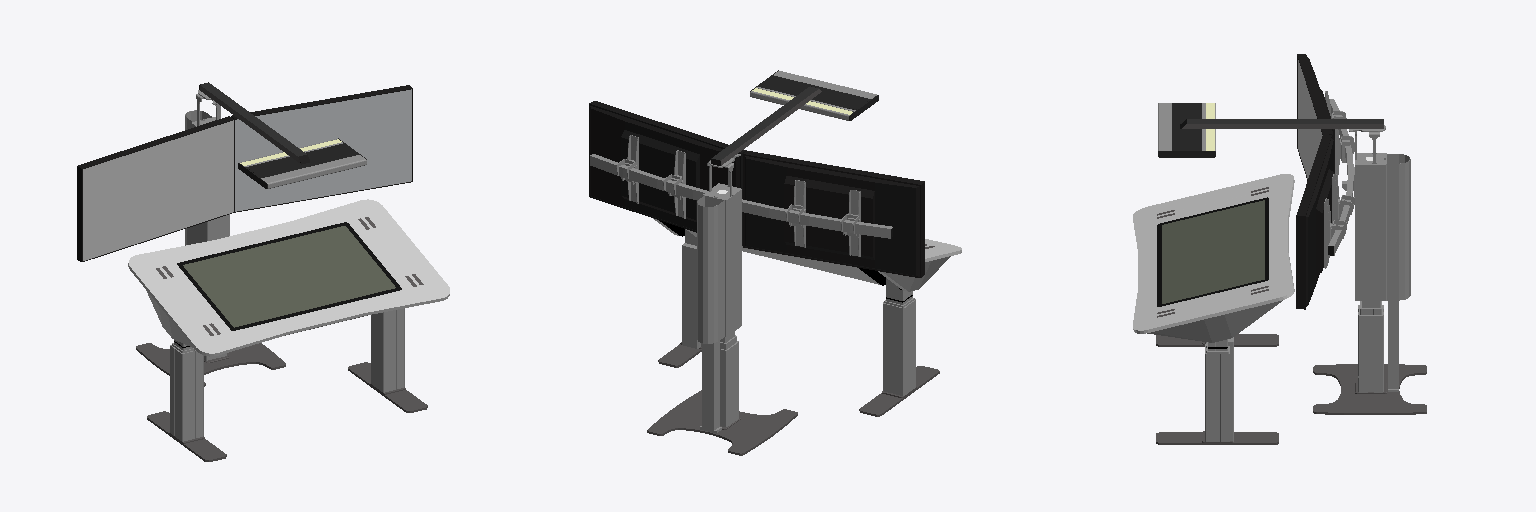
Rendered from DraftingDeskAndMonitor.obj.
3 views of the same model, side by side, from view 1: azimuth 30°, elevation 25°; view 2: azimuth 150°, elevation 25°; view 3: azimuth 270°, elevation 25° (orthographic).
Parts seen in each view (by area): view 1: Mesh37 Component_8_1 Component_7_1 Component_6_1 skp3AE1_1 Model, Mesh38 Component_30_1 Group1 skp8C67_1 Model, Mesh34 Component_14_1 Component_13_1 Component_8_1 Component_7_1, Mesh39 Component_41_1 Group1 skp8C67_1 Model, Mesh2 Component_2_1 Component1 skp3AE1_1 Model, Mesh9 Component_2_6 Component1 skp3AE1_1 Model, Mesh74 Component_33_1 skp8C67_1 Model, Mesh35 Component_13_1 Component_8_1 Component_7_1 Component_6_1 , Mesh41 Component_45_1 Group1 skp8C67_1 Model, Mesh65 Component_35_1 Group2 skp8C67_1 Model, Mesh64 Component_20_1 Component_37_1 Group2 skp8C67_1 Model, Mesh61 Component_26_1 Component_37_1 Group2 skp8C67_1 Model (+4 smaller); view 2: Mesh41 Component_45_1 Group1 skp8C67_1 Model, Mesh48 Component_45_2 Group1 skp8C67_1 Model, Mesh72 Component_24_1 Component_34_1 skp8C67_1 Model, Mesh74 Component_33_1 skp8C67_1 Model, Mesh40 Component_31_1 Group1 skp8C67_1 Model, Mesh2 Component_2_1 Component1 skp3AE1_1 Model, Mesh71 Component_23_1 Component_34_1 skp8C67_1 Model, Mesh69 Component_40_1 skp8C67_1 Model, Mesh1 Component_1_1 Component1 skp3AE1_1 Model, Mesh65 Component_35_1 Group2 skp8C67_1 Model, Mesh66 Component_44_1 skp8C67_1 Model, Mesh64 Component_20_1 Component_37_1 Group2 skp8C67_1 Model (+9 smaller); view 3: Mesh37 Component_8_1 Component_7_1 Component_6_1 skp3AE1_1 Model, Mesh34 Component_14_1 Component_13_1 Component_8_1 Component_7_1, Mesh71 Component_23_1 Component_34_1 skp8C67_1 Model, Mesh48 Component_45_2 Group1 skp8C67_1 Model, Mesh72 Component_24_1 Component_34_1 skp8C67_1 Model, Mesh74 Component_33_1 skp8C67_1 Model, Mesh9 Component_2_6 Component1 skp3AE1_1 Model, Mesh66 Component_44_1 skp8C67_1 Model, Mesh65 Component_35_1 Group2 skp8C67_1 Model, Mesh26 Component_12_1 Component_8_1 Component_7_1 Component_6_1 , Mesh38 Component_30_1 Group1 skp8C67_1 Model, Mesh12 Component_3_2 Component1 skp3AE1_1 Model (+8 smaller).
Part boxes in pixels (bbox=[...]): Mesh37 Component_8_1 Component_7_1 Component_6_1 skp3AE1_1 Model: bbox=[128, 199, 449, 356]; Mesh38 Component_30_1 Group1 skp8C67_1 Model: bbox=[83, 120, 233, 260]; Mesh34 Component_14_1 Component_13_1 Component_8_1 Component_7_1: bbox=[183, 226, 395, 327]; Mesh39 Component_41_1 Group1 skp8C67_1 Model: bbox=[235, 89, 411, 211]; Mesh2 Component_2_1 Component1 skp3AE1_1 Model: bbox=[170, 345, 203, 441]; Mesh9 Component_2_6 Component1 skp3AE1_1 Model: bbox=[371, 308, 404, 392]; Mesh74 Component_33_1 skp8C67_1 Model: bbox=[136, 343, 285, 386]; Mesh35 Component_13_1 Component_8_1 Component_7_1 Component_6_1 : bbox=[177, 222, 401, 330]; Mesh41 Component_45_1 Group1 skp8C67_1 Model: bbox=[77, 116, 234, 261]; Mesh65 Component_35_1 Group2 skp8C67_1 Model: bbox=[199, 82, 309, 164]; Mesh64 Component_20_1 Component_37_1 Group2 skp8C67_1 Model: bbox=[246, 143, 359, 177]; Mesh61 Component_26_1 Component_37_1 Group2 skp8C67_1 Model: bbox=[261, 155, 366, 188]; Mesh41 Component_45_1 Group1 skp8C67_1 Model: bbox=[743, 151, 924, 277]; Mesh48 Component_45_2 Group1 skp8C67_1 Model: bbox=[589, 101, 746, 245]; Mesh72 Component_24_1 Component_34_1 skp8C67_1 Model: bbox=[697, 195, 724, 343]; Mesh74 Component_33_1 skp8C67_1 Model: bbox=[647, 390, 797, 455]; Mesh40 Component_31_1 Group1 skp8C67_1 Model: bbox=[590, 154, 892, 238]; Mesh2 Component_2_1 Component1 skp3AE1_1 Model: bbox=[883, 299, 915, 395]; Mesh71 Component_23_1 Component_34_1 skp8C67_1 Model: bbox=[703, 183, 741, 336]; Mesh69 Component_40_1 skp8C67_1 Model: bbox=[700, 341, 721, 433]; Mesh1 Component_1_1 Component1 skp3AE1_1 Model: bbox=[682, 243, 700, 348]; Mesh65 Component_35_1 Group2 skp8C67_1 Model: bbox=[711, 86, 821, 165]; Mesh66 Component_44_1 skp8C67_1 Model: bbox=[720, 341, 738, 426]; Mesh64 Component_20_1 Component_37_1 Group2 skp8C67_1 Model: bbox=[757, 75, 870, 109]; Mesh37 Component_8_1 Component_7_1 Component_6_1 skp3AE1_1 Model: bbox=[1133, 174, 1294, 333]; Mesh34 Component_14_1 Component_13_1 Component_8_1 Component_7_1: bbox=[1162, 200, 1264, 303]; Mesh71 Component_23_1 Component_34_1 skp8C67_1 Model: bbox=[1355, 153, 1386, 300]; Mesh48 Component_45_2 Group1 skp8C67_1 Model: bbox=[1296, 135, 1334, 309]; Mesh72 Component_24_1 Component_34_1 skp8C67_1 Model: bbox=[1387, 154, 1410, 300]; Mesh74 Component_33_1 skp8C67_1 Model: bbox=[1313, 364, 1426, 414]; Mesh9 Component_2_6 Component1 skp3AE1_1 Model: bbox=[1205, 344, 1229, 441]; Mesh66 Component_44_1 skp8C67_1 Model: bbox=[1358, 305, 1383, 392]; Mesh65 Component_35_1 Group2 skp8C67_1 Model: bbox=[1180, 119, 1383, 128]; Mesh26 Component_12_1 Component_8_1 Component_7_1 Component_6_1 : bbox=[1147, 300, 1282, 342]; Mesh38 Component_30_1 Group1 skp8C67_1 Model: bbox=[1298, 60, 1322, 178]; Mesh12 Component_3_2 Component1 skp3AE1_1 Model: bbox=[1156, 432, 1278, 444].
Bounding box in the file's own units: 2.49 × 1.93 × 1.91.